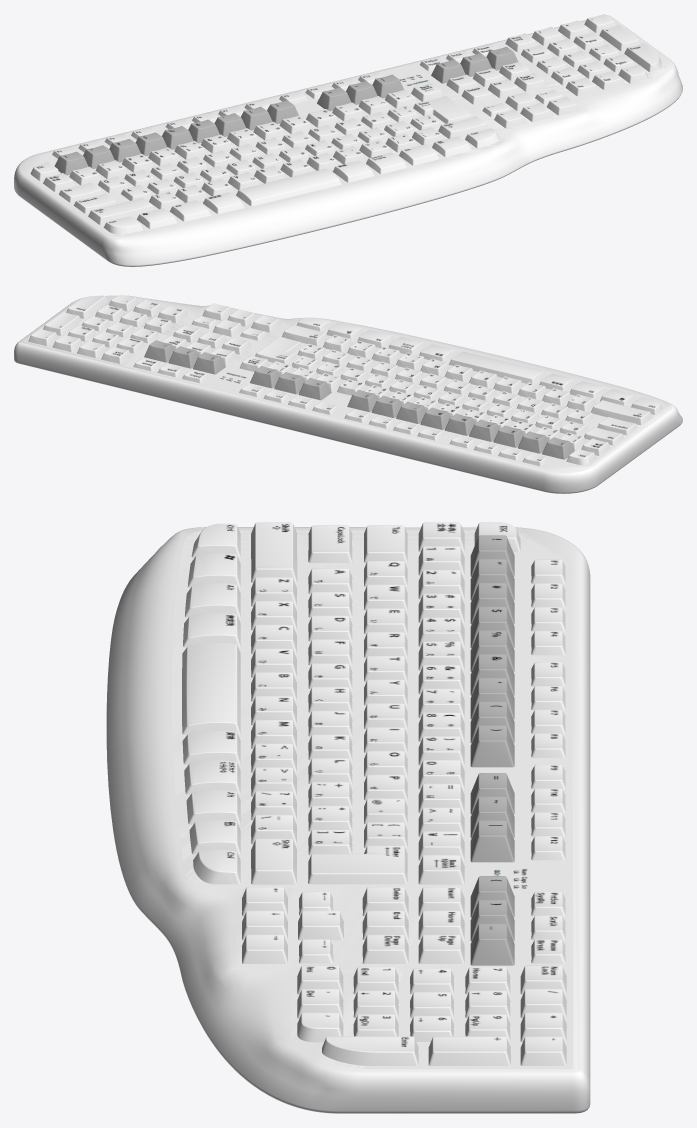
3 views of the same model, one above another, from view 1: azimuth 30°, elevation 25°; view 2: azimuth 150°, elevation 25°; view 3: azimuth 270°, elevation 25° (orthographic). The views are drawn at different scales.
Parts seen in each view (by area): view 1: key.white, body.outer, key.gray; view 2: key.white, body.outer, key.gray; view 3: key.white, body.outer, key.gray.
Part boxes in pixels (x1=…): key.white: x1=30, y1=14, x2=661, y2=234; body.outer: x1=14, y1=15, x2=682, y2=266; key.gray: x1=54, y1=46, x2=518, y2=175; key.white: x1=28, y1=295, x2=662, y2=466; body.outer: x1=14, y1=295, x2=682, y2=493; key.gray: x1=144, y1=340, x2=574, y2=459; key.white: x1=182, y1=522, x2=566, y2=1065; body.outer: x1=106, y1=527, x2=590, y2=1113; key.gray: x1=470, y1=535, x2=514, y2=965.
Size of the model in its own units: 7.66 by 0.3988 by 2.83.
6 materials, 3 textured.
